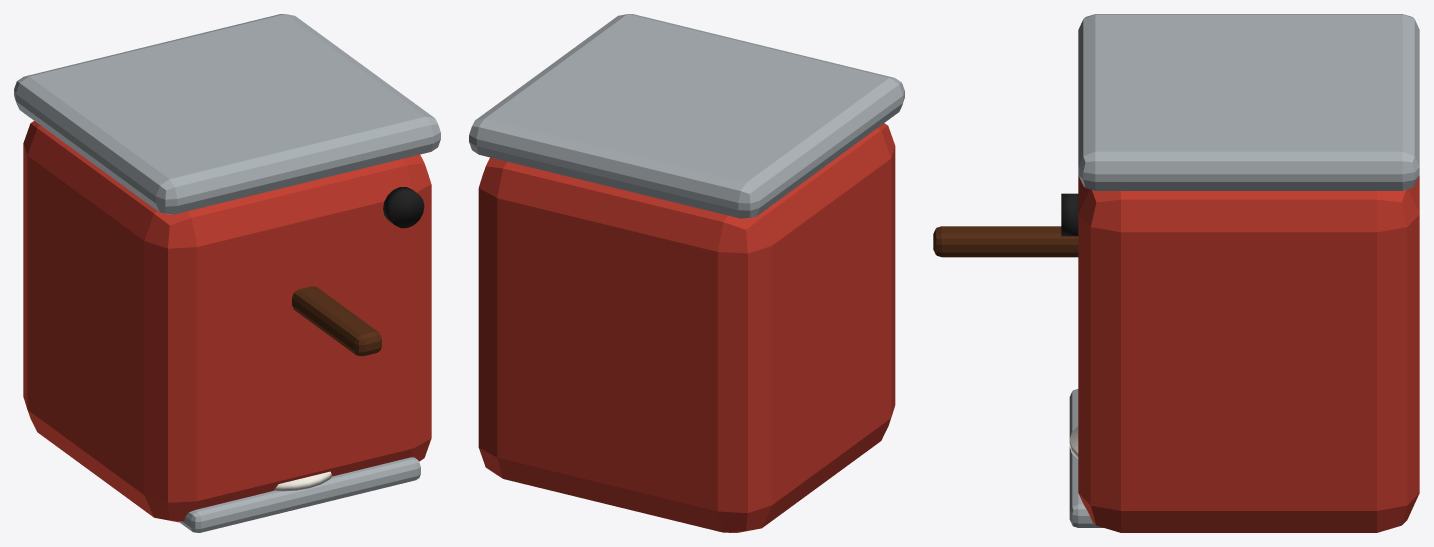
Rendered from kaffee-2-macchinetta.glb.
3 renders of one model, left to right at view 1: azimuth 30°, elevation 25°; view 2: azimuth 150°, elevation 25°; view 3: azimuth 270°, elevation 25°, orthographic. The views are drawn at different scales.
Parts seen in each view (by area): view 1: Cube, Cube.001, Cube.002, Cube.003, Cylinder.001, Cylinder.003; view 2: Cube, Cube.001; view 3: Cube, Cube.001, Cube.003, Cube.002, Cylinder.001.
Boxes of the visible parts, x1,y1,x2,y2 form: Cube: [23, 121, 431, 522]; Cube.001: [14, 14, 440, 214]; Cube.002: [179, 457, 420, 532]; Cube.003: [292, 286, 381, 356]; Cylinder.001: [383, 187, 424, 228]; Cylinder.003: [273, 471, 332, 491]; Cube: [478, 123, 895, 532]; Cube.001: [469, 14, 904, 218]; Cube: [1078, 175, 1419, 532]; Cube.001: [1078, 14, 1419, 190]; Cube.003: [933, 226, 1078, 257]; Cube.002: [1069, 389, 1103, 527]; Cylinder.001: [1061, 193, 1078, 236].
Size of the model in its own units: 0.42 by 0.505 by 0.57.
